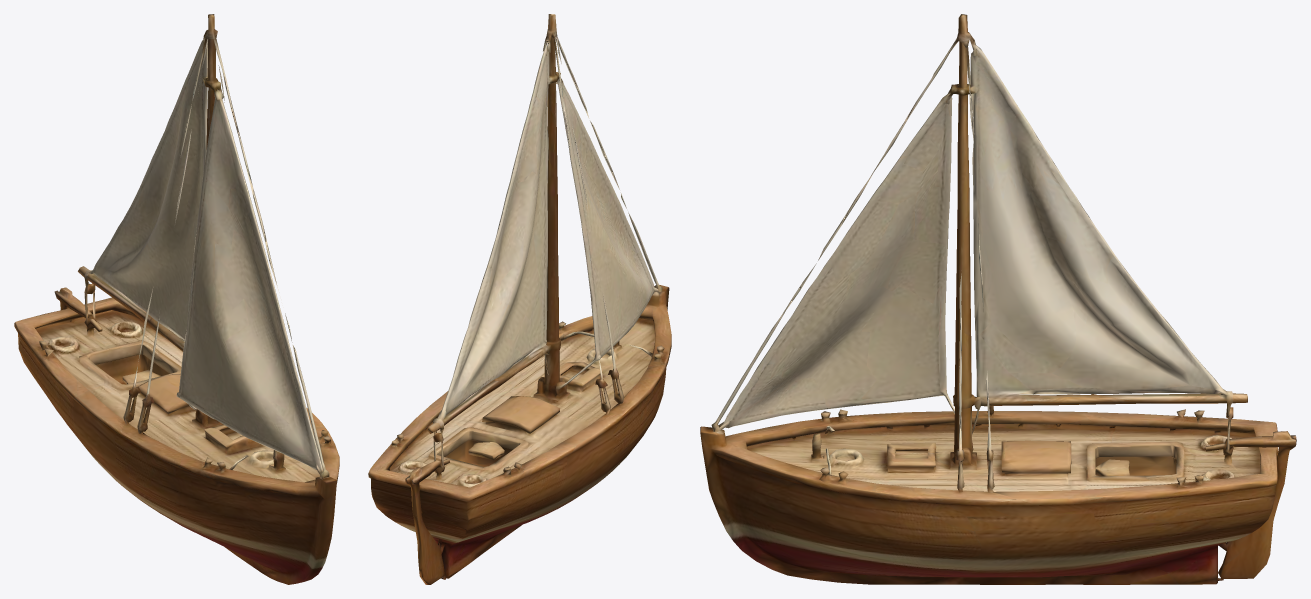
Rendered from boat_3d.glb.
The picture shows the model from 3 angles, left to right: view 1: azimuth 30°, elevation 25°; view 2: azimuth 150°, elevation 25°; view 3: azimuth 270°, elevation 25°; orthographic projection. The views are drawn at different scales.
Parts seen in each view (by area): view 1: tripo_node_ea9a36dd-2b81-47f9-8286-67c753d64e3e; view 2: tripo_node_ea9a36dd-2b81-47f9-8286-67c753d64e3e; view 3: tripo_node_ea9a36dd-2b81-47f9-8286-67c753d64e3e.
Boxes of the visible parts, x1,y1,x2,y2 form: tripo_node_ea9a36dd-2b81-47f9-8286-67c753d64e3e: (14,14,339,584); tripo_node_ea9a36dd-2b81-47f9-8286-67c753d64e3e: (368,14,671,584); tripo_node_ea9a36dd-2b81-47f9-8286-67c753d64e3e: (700,14,1296,584).
Size of the model in its own units: 0.3357 by 1 by 0.9531.
1 material, 1 textured.
